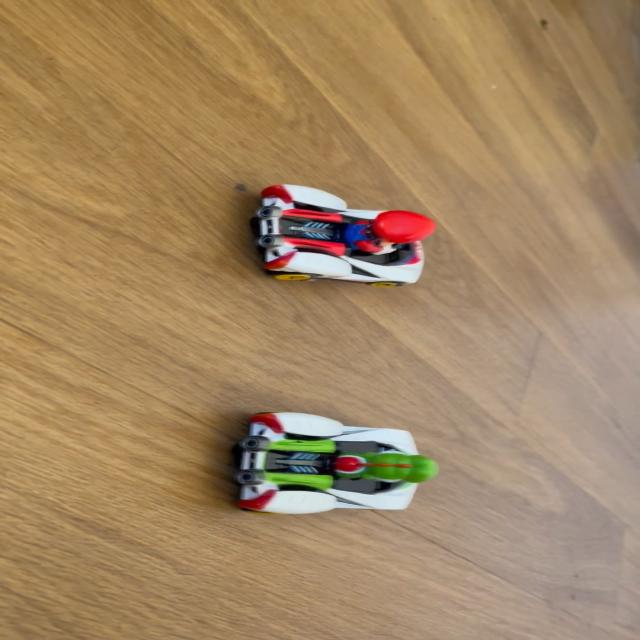mario: (233, 182, 453, 296)
yoshi: (212, 400, 454, 514)
